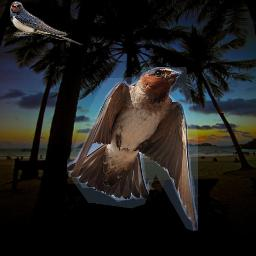Swallow: (67, 67, 198, 231), (10, 1, 83, 45)
